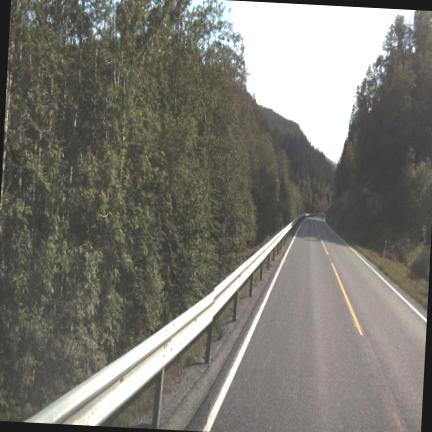Road: (212, 217, 426, 431)
